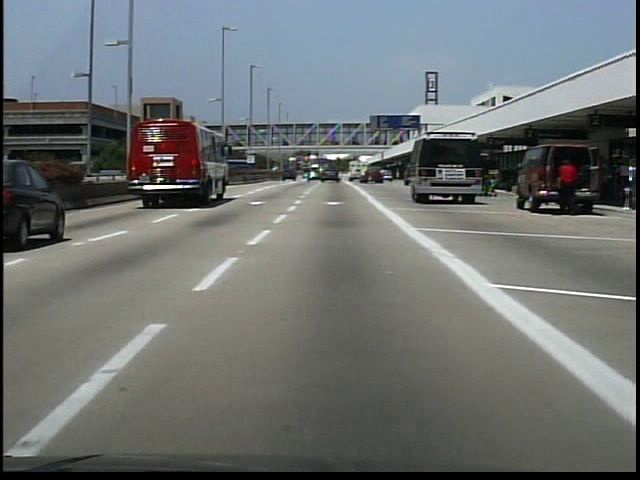person: (557, 156, 578, 215)
